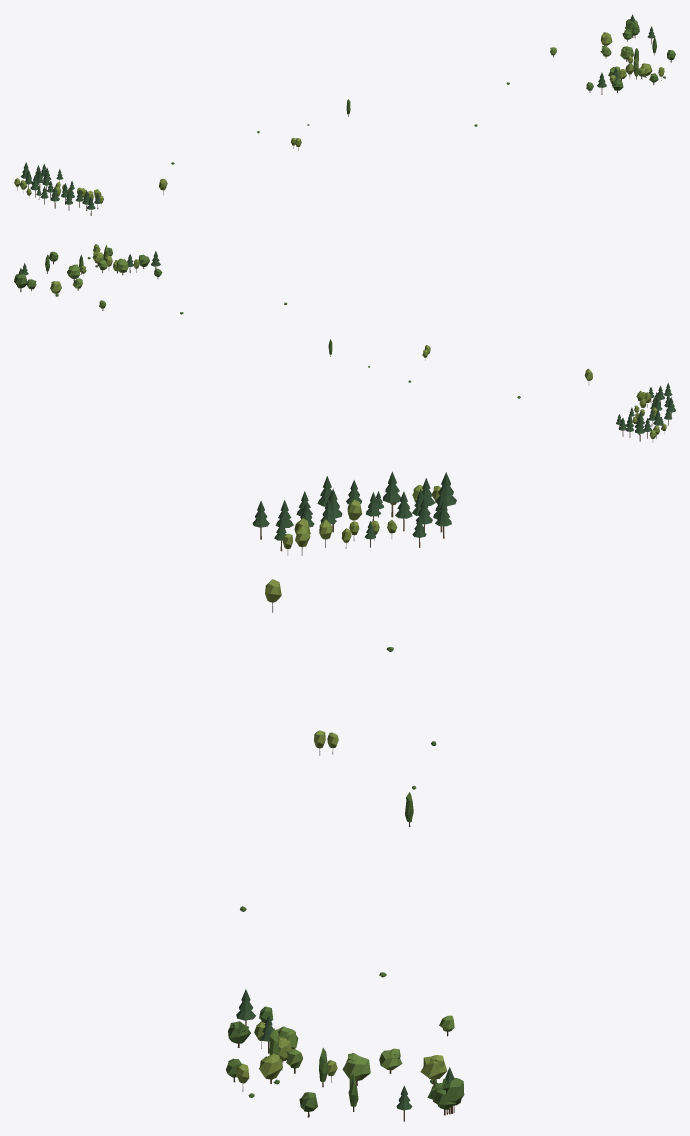
The model's file is Natura_2_4.fbx.
3 views of the same model, one above another, from view 1: azimuth 30°, elevation 25°; view 2: azimuth 150°, elevation 25°; view 3: azimuth 270°, elevation 25° (orthographic). The views are drawn at different scales.
Size of the model in its own units: 461 by 17.34 by 75.28.
